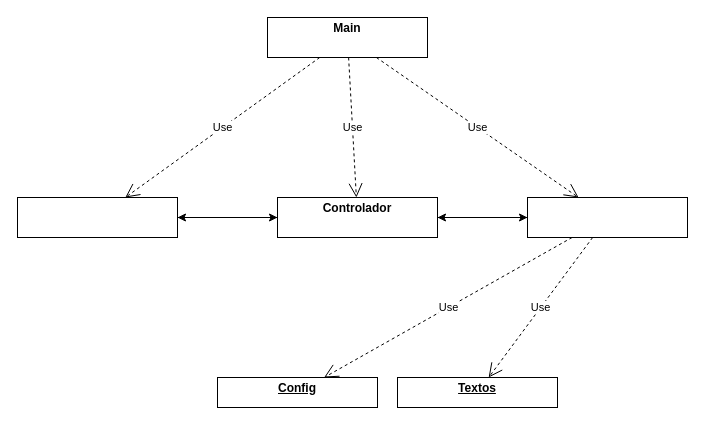
Image size: 705x425. Some labels were removed from this diagram. Here are the shapes that lost their labels. From the top down, the centre of each, then its label:
At (x=97, y=217): "Conector".
At (x=607, y=217): "Ventana".
